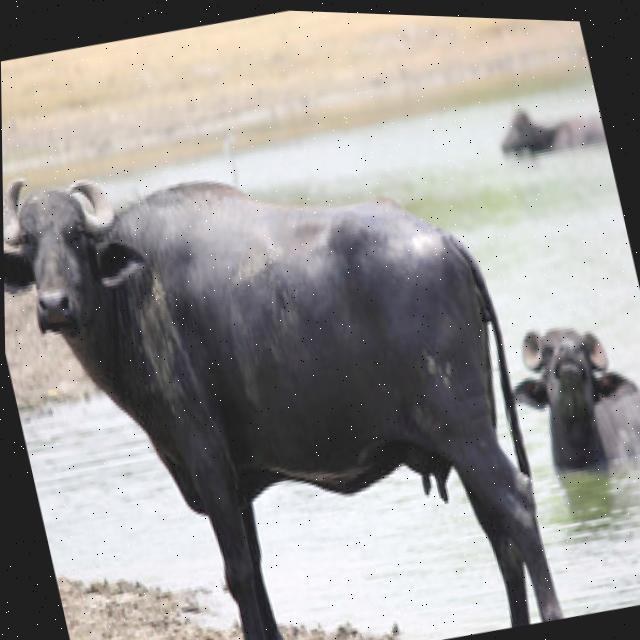Buffalo: (1, 84, 571, 640)
